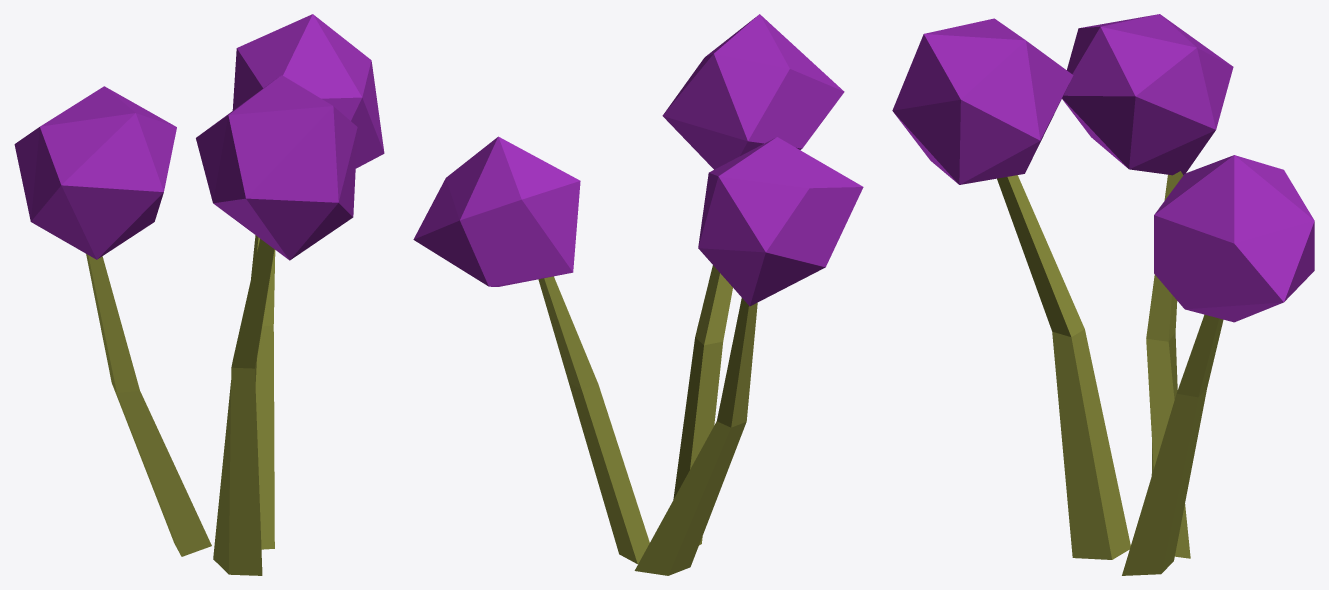
Rendered from fantasy_flower_2.fbx.
3 views of the same model, side by side, from view 1: azimuth 30°, elevation 25°; view 2: azimuth 150°, elevation 25°; view 3: azimuth 270°, elevation 25° (orthographic). The views are drawn at different scales.
Visible parts, largest first — view 1: Cube.248; view 2: Cube.248; view 3: Cube.248.
Part boxes in pixels (x1,y1,x2,y2): Cube.248: (14, 14, 384, 575); Cube.248: (413, 14, 863, 575); Cube.248: (892, 14, 1314, 575).
Bounding box in the file's own units: 27.3 × 34.29 × 25.14.
